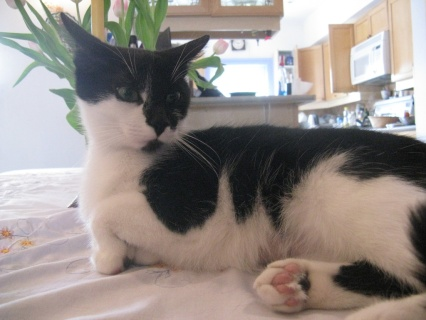Cat: (60, 11, 426, 319)
